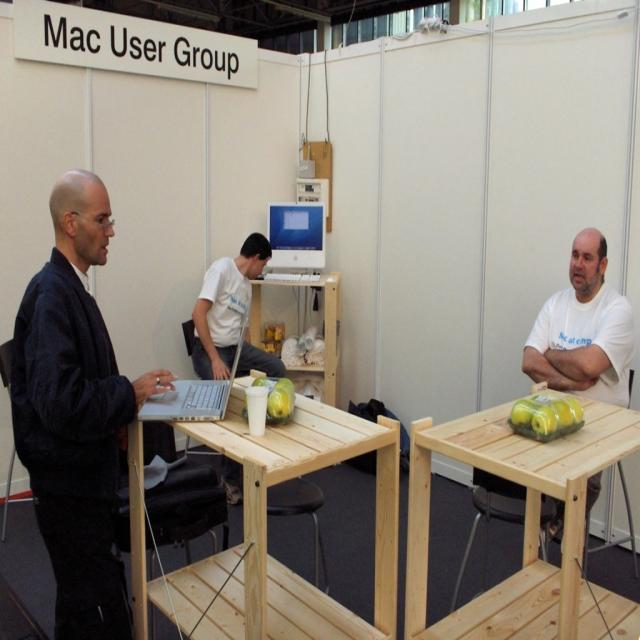desk: (419, 383, 639, 639)
laptop: (142, 324, 242, 424)
person: (9, 168, 179, 640), (520, 229, 638, 599), (191, 233, 288, 385)
tv: (267, 202, 326, 270)
